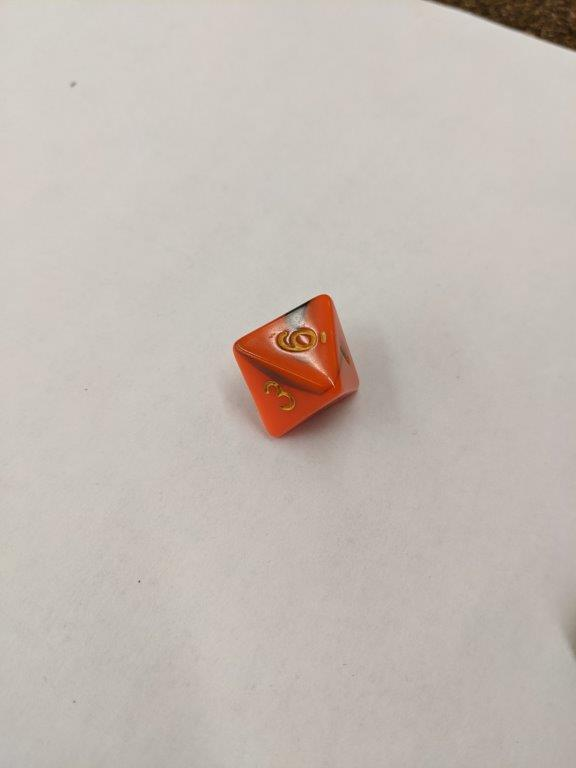d8-6: (229, 290, 362, 448)
